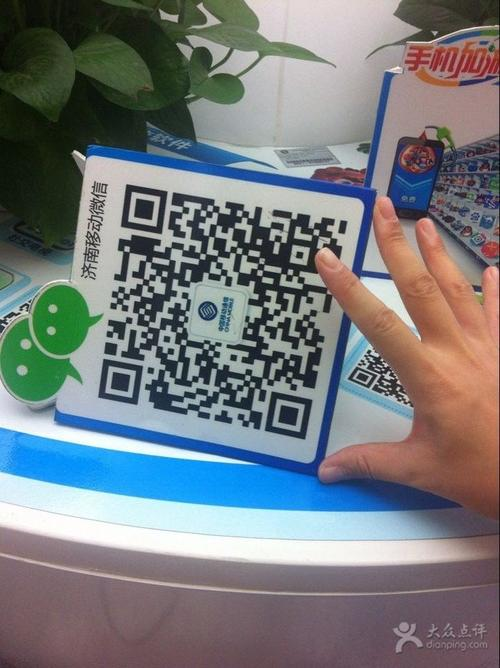QRCode: (98, 177, 337, 444)
